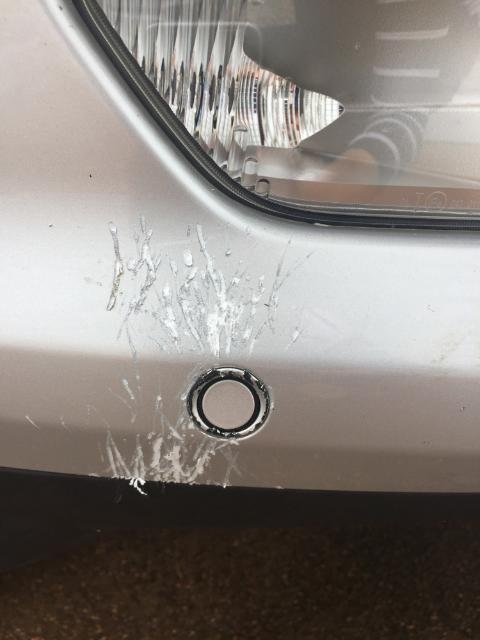rub: (82, 217, 305, 486)
